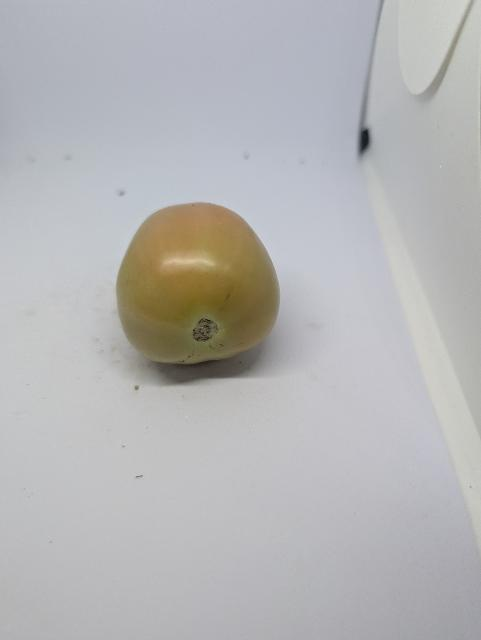breaker: (117, 203, 280, 365)
